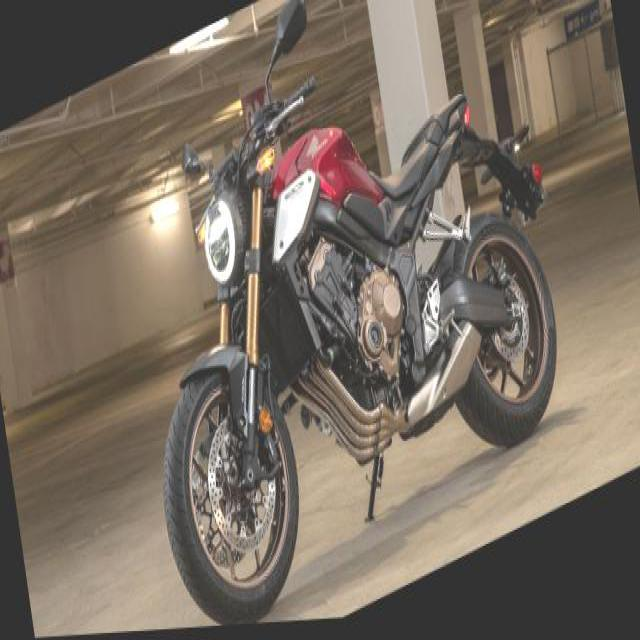CB650R: (121, 10, 578, 632)
